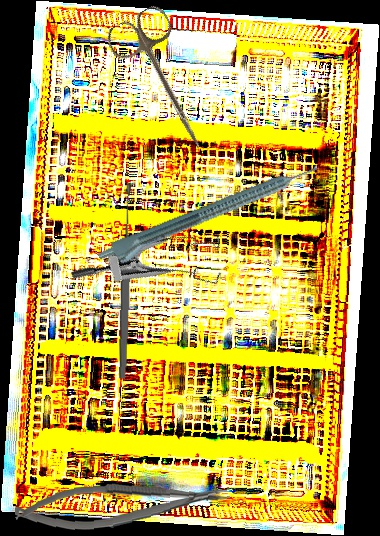Handpiece: (95, 159, 325, 274)
Iris Scissors: (102, 1, 230, 162)
Needle Holder: (13, 477, 232, 534)
Speculum: (68, 206, 238, 339)
Surgical Spoon: (117, 182, 135, 381)
